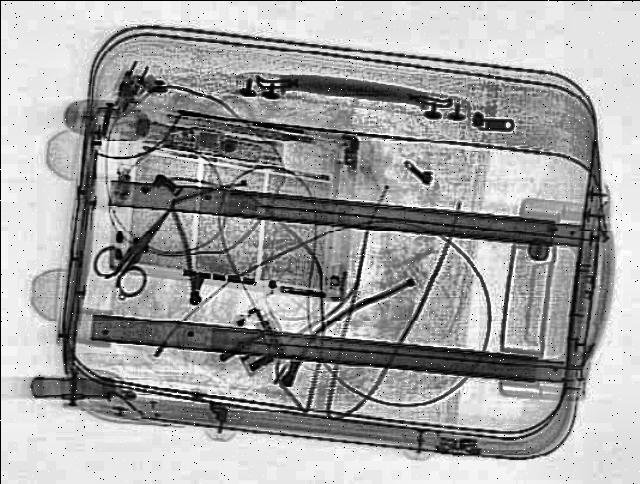Scissors: (78, 196, 198, 298)
